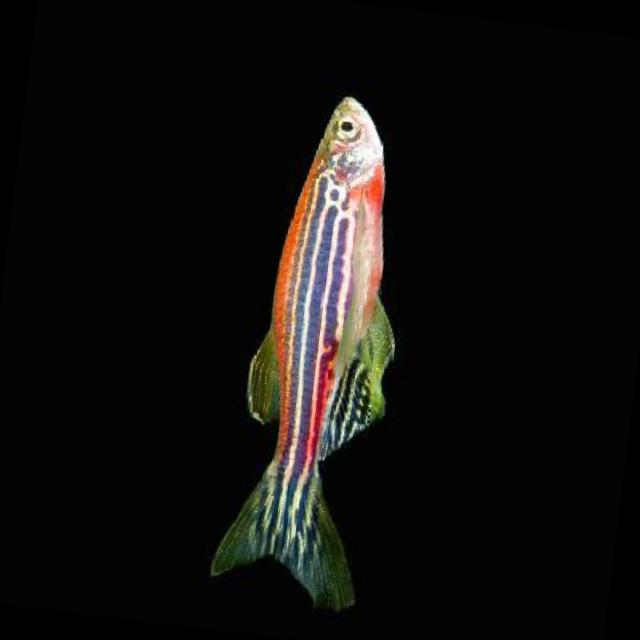ZebraFish: (204, 80, 424, 614)
